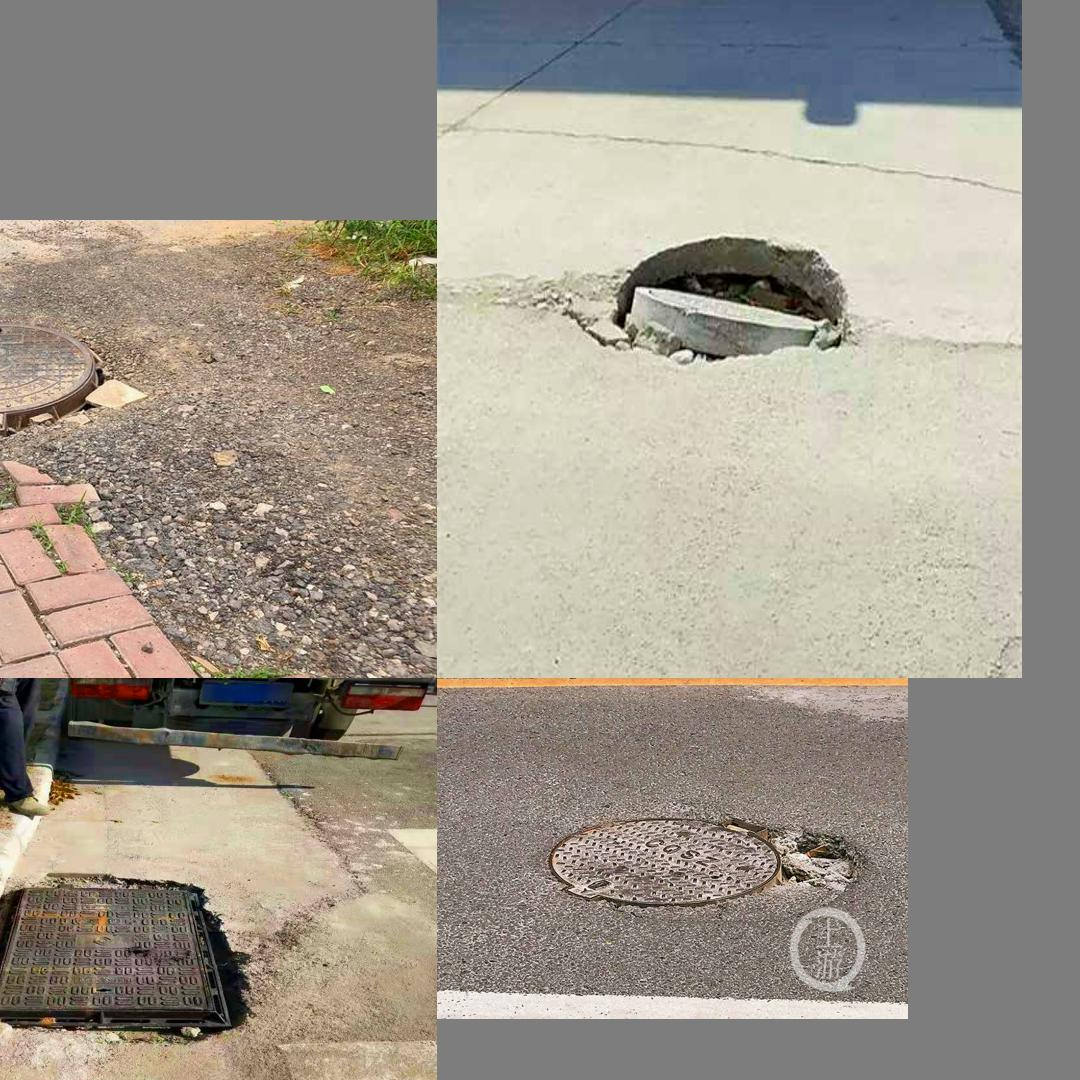circle: (530, 217, 875, 402), (0, 879, 250, 1039), (544, 812, 874, 918), (0, 291, 165, 473)
